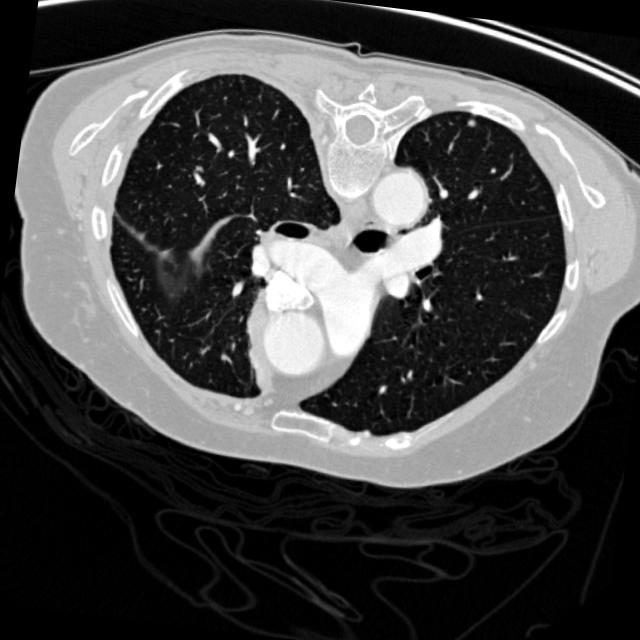nodule: (458, 112, 480, 134)
